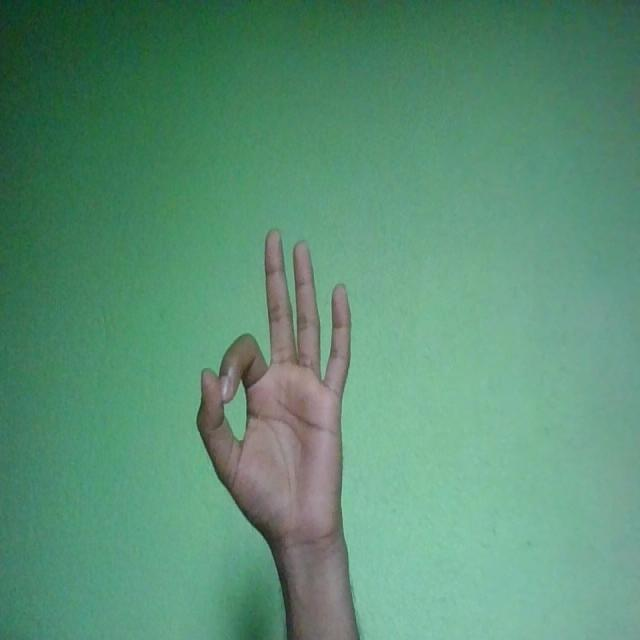Rock On: (196, 229, 352, 545)
